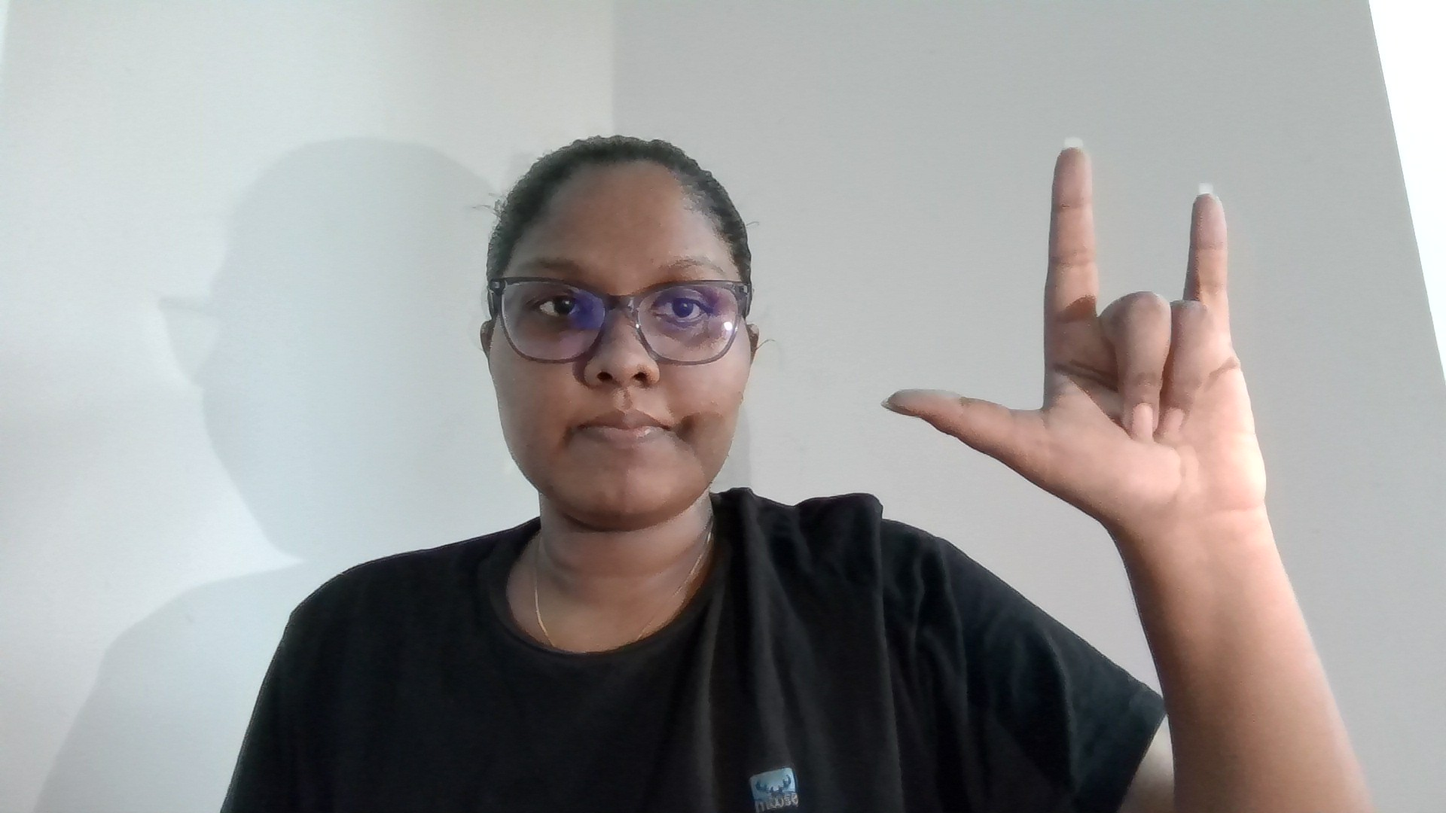I Love You: (908, 48, 1333, 614)
